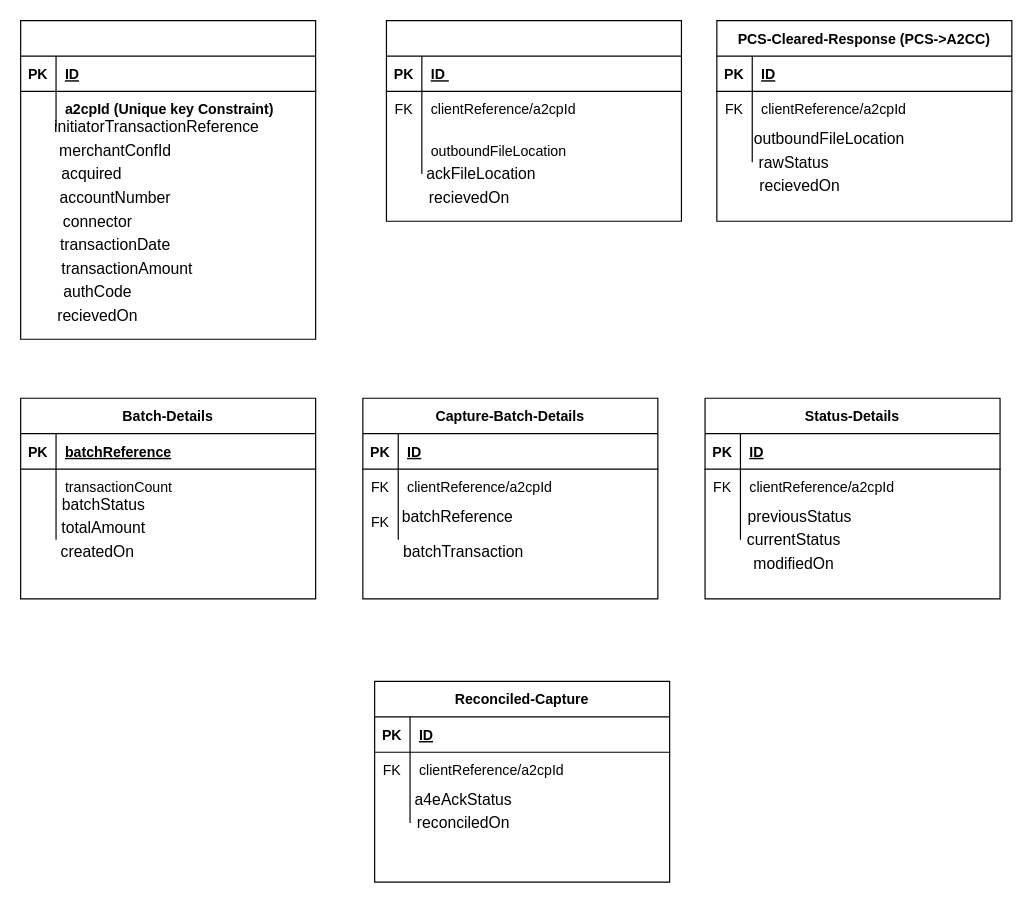
The diagram is 1033 pixels wide and 903 high, and some of its shapes have lost their labels. The shapes that lost their labels are listed below. From the top down, each one's box as (x1, y1, x2, y2) in pixels, then its label:
(385, 19, 681, 221): PCS-Delivered-Ack (PCS->A2CC)
(19, 19, 316, 339): A2CP-Capture-Outbound (A2CT -> A2CC )
